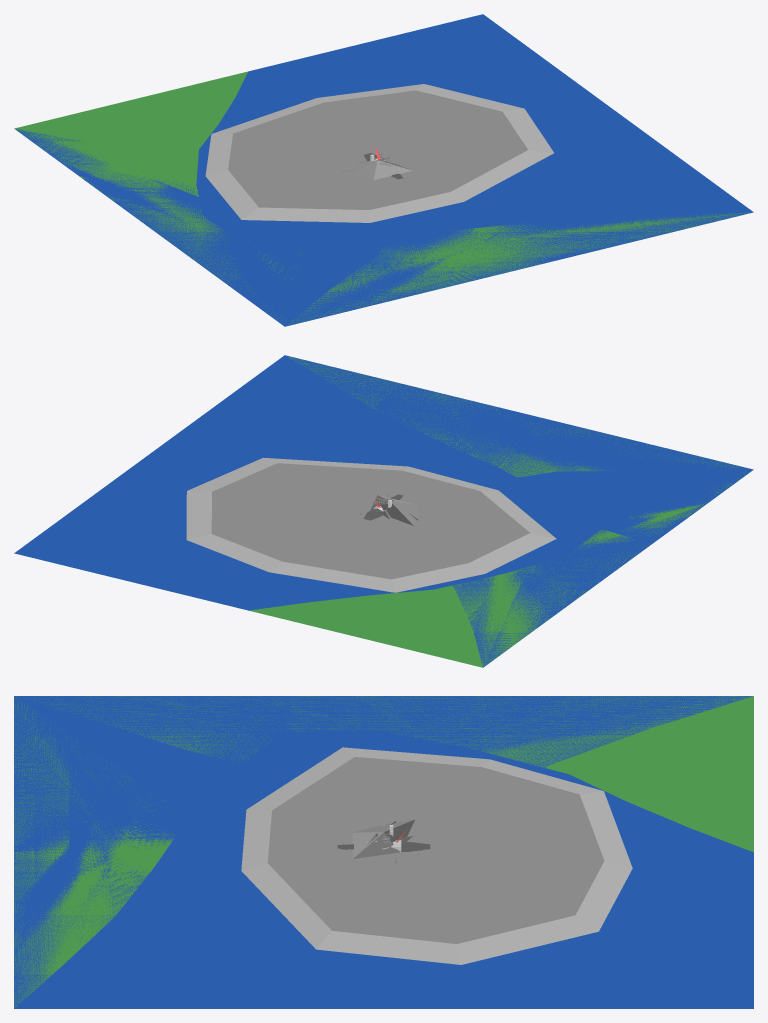
3 views of the same model, one above another, from view 1: azimuth 30°, elevation 25°; view 2: azimuth 150°, elevation 25°; view 3: azimuth 270°, elevation 25° (orthographic). The views are drawn at different scales.
Visible parts, largest first — view 1: lb_002_lod0, lb_019_lod0, lb_004_lod0, lb_003_lod0, lb_001_lod0, lb_005_lod0, lb_006_lod0, lb_009_lod0; view 2: lb_002_lod0, lb_019_lod0, lb_004_lod0, lb_003_lod0, lb_006_lod0, lb_001_lod0, lb_005_lod0, lb_009_lod0; view 3: lb_002_lod0, lb_019_lod0, lb_004_lod0, lb_001_lod0, lb_003_lod0, lb_005_lod0, lb_006_lod0, lb_009_lod0.
Boxes of the visible parts, left/top/right/bottom form: lb_002_lod0: left=196, top=14, right=753, bottom=326; lb_019_lod0: left=205, top=84, right=553, bottom=222; lb_004_lod0: left=14, top=71, right=301, bottom=320; lb_003_lod0: left=15, top=129, right=633, bottom=325; lb_001_lod0: left=15, top=129, right=324, bottom=326; lb_005_lod0: left=288, top=212, right=753, bottom=324; lb_006_lod0: left=15, top=72, right=247, bottom=181; lb_009_lod0: left=331, top=160, right=412, bottom=180; lb_002_lod0: left=14, top=355, right=753, bottom=610; lb_019_lod0: left=186, top=457, right=556, bottom=592; lb_004_lod0: left=249, top=471, right=749, bottom=667; lb_003_lod0: left=376, top=384, right=752, bottom=667; lb_006_lod0: left=249, top=571, right=549, bottom=667; lb_001_lod0: left=483, top=469, right=752, bottom=667; lb_005_lod0: left=288, top=356, right=745, bottom=477; lb_009_lod0: left=370, top=495, right=418, bottom=525; lb_002_lod0: left=14, top=696, right=753, bottom=1008; lb_019_lod0: left=241, top=747, right=632, bottom=964; lb_004_lod0: left=16, top=696, right=753, bottom=852; lb_001_lod0: left=15, top=696, right=751, bottom=767; lb_003_lod0: left=14, top=696, right=751, bottom=928; lb_005_lod0: left=14, top=696, right=177, bottom=1007; lb_006_lod0: left=464, top=696, right=753, bottom=851; lb_009_lod0: left=352, top=819, right=414, bottom=858.
Size of what is drawn, in the model's own units: 4096 by 150 by 4096.
